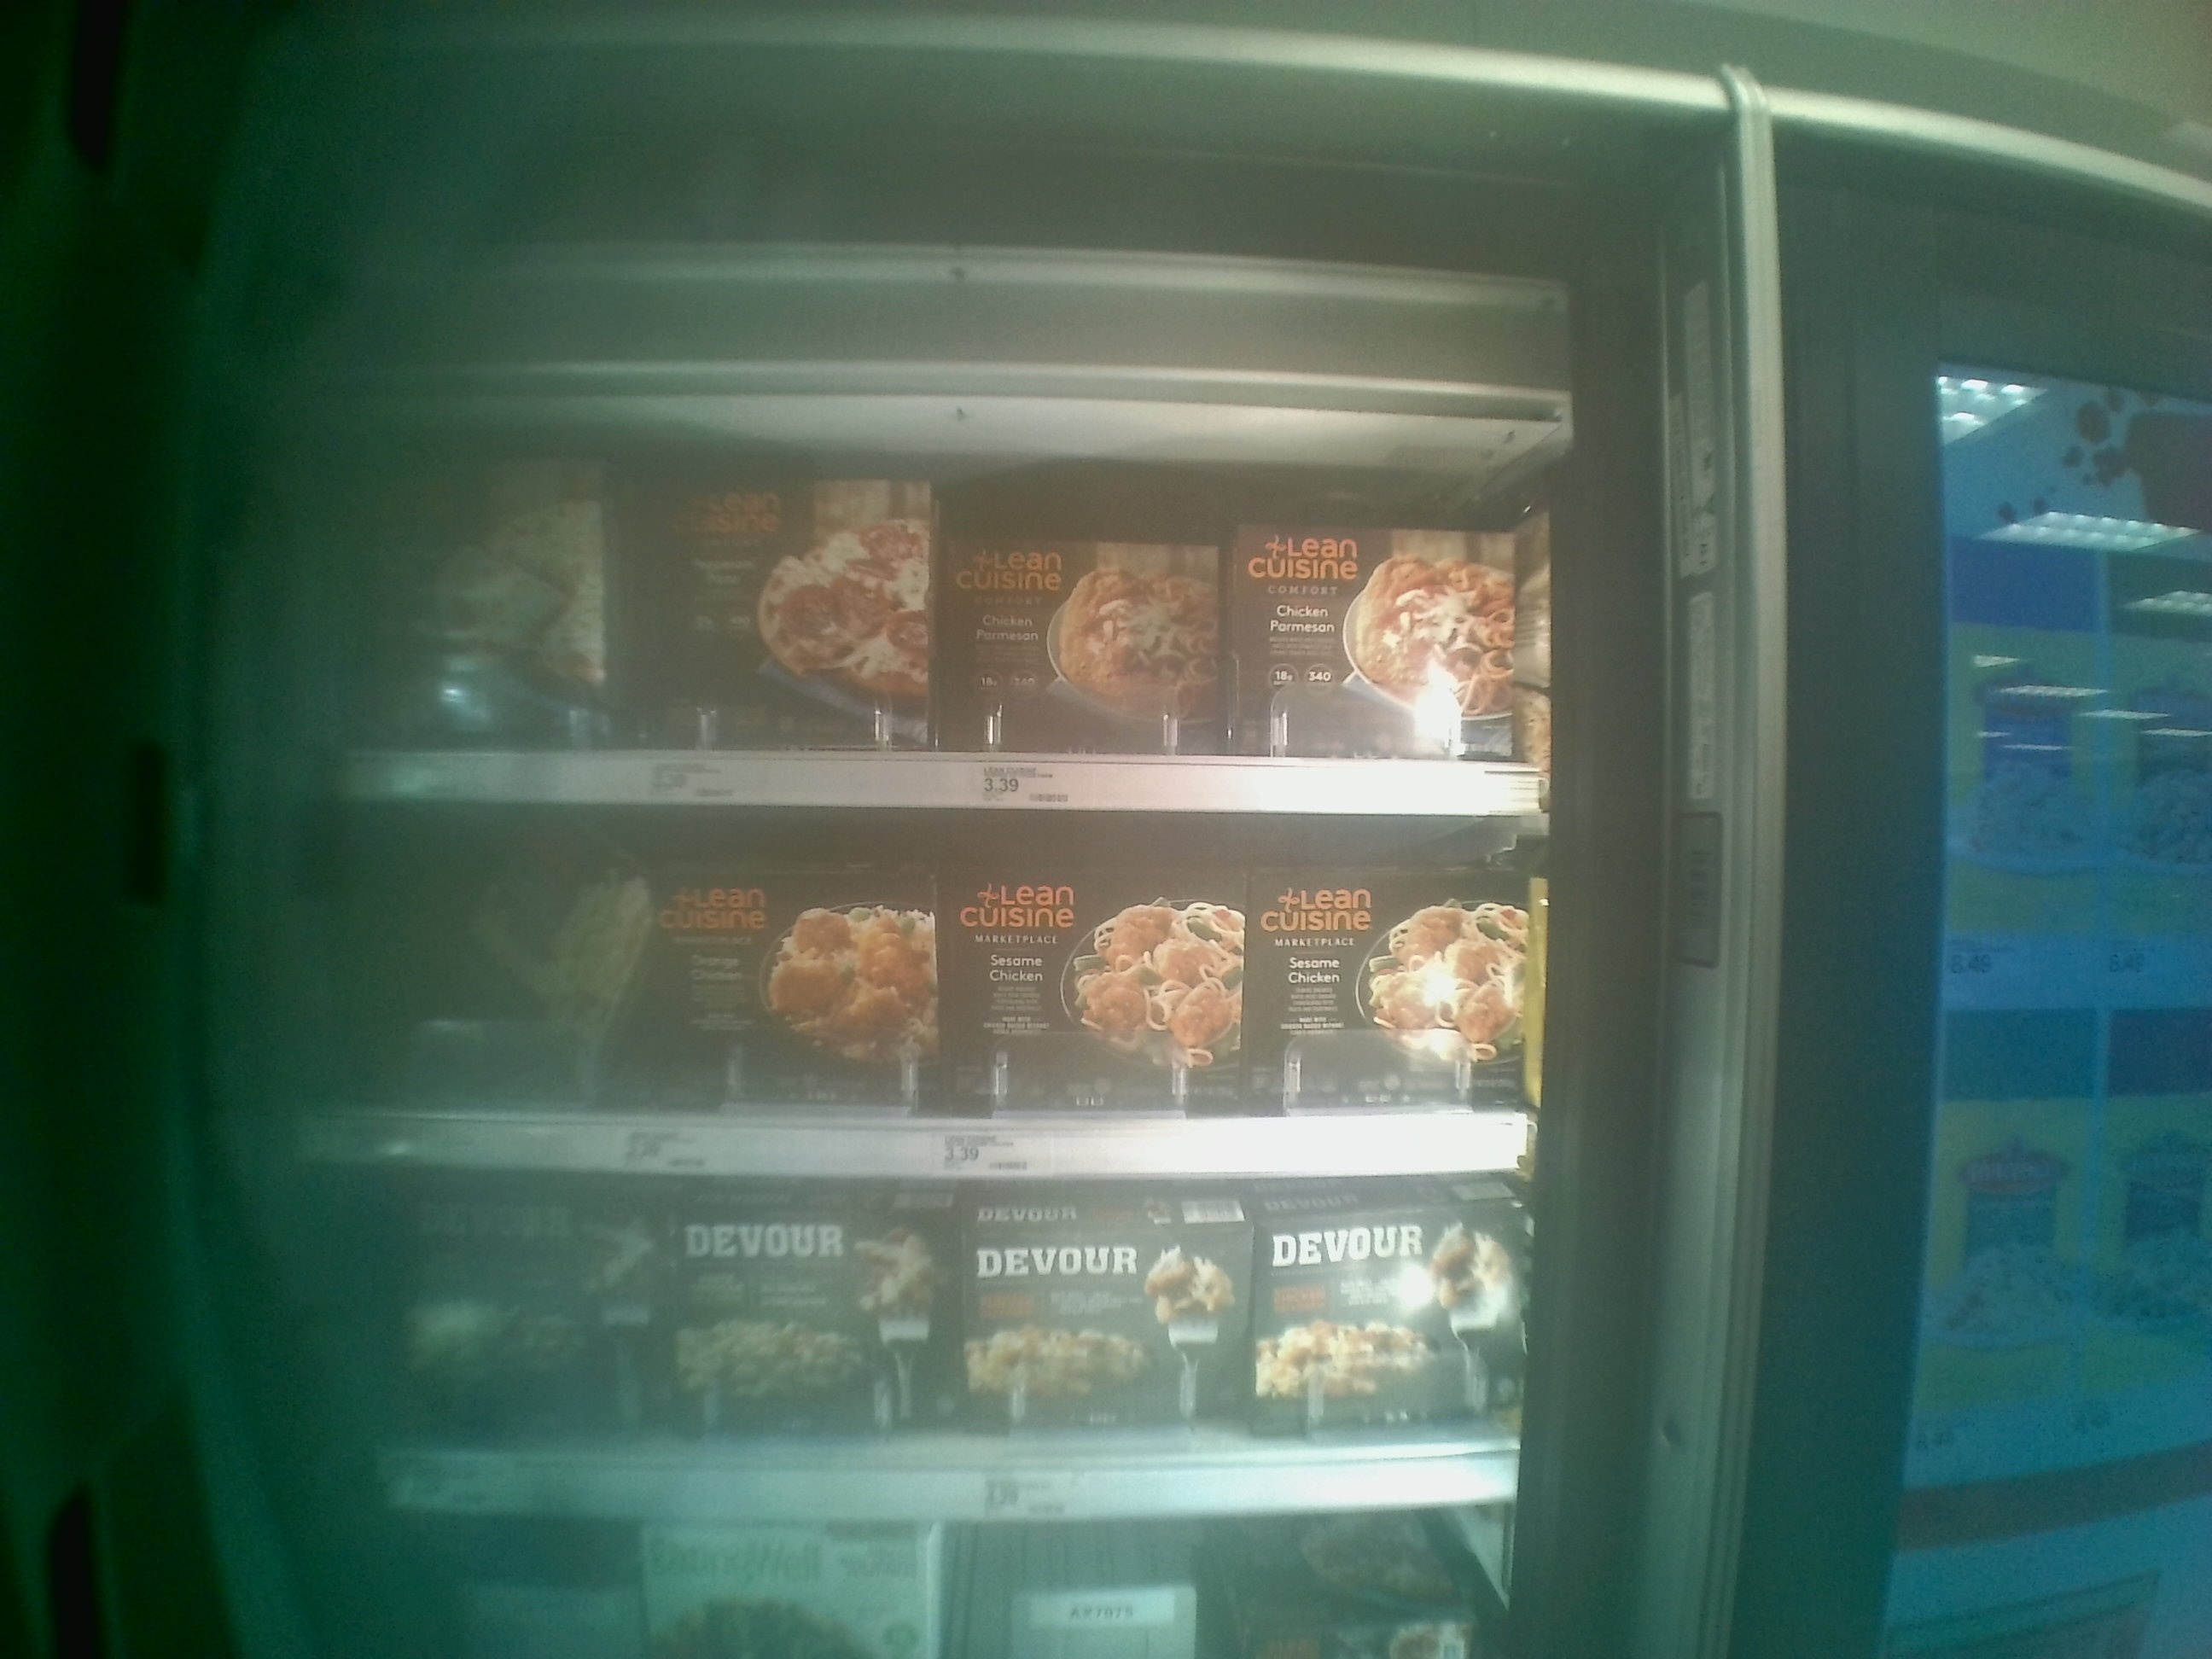shelf: (347, 376, 1545, 823), (298, 807, 1538, 1175), (336, 1173, 1531, 1516)
